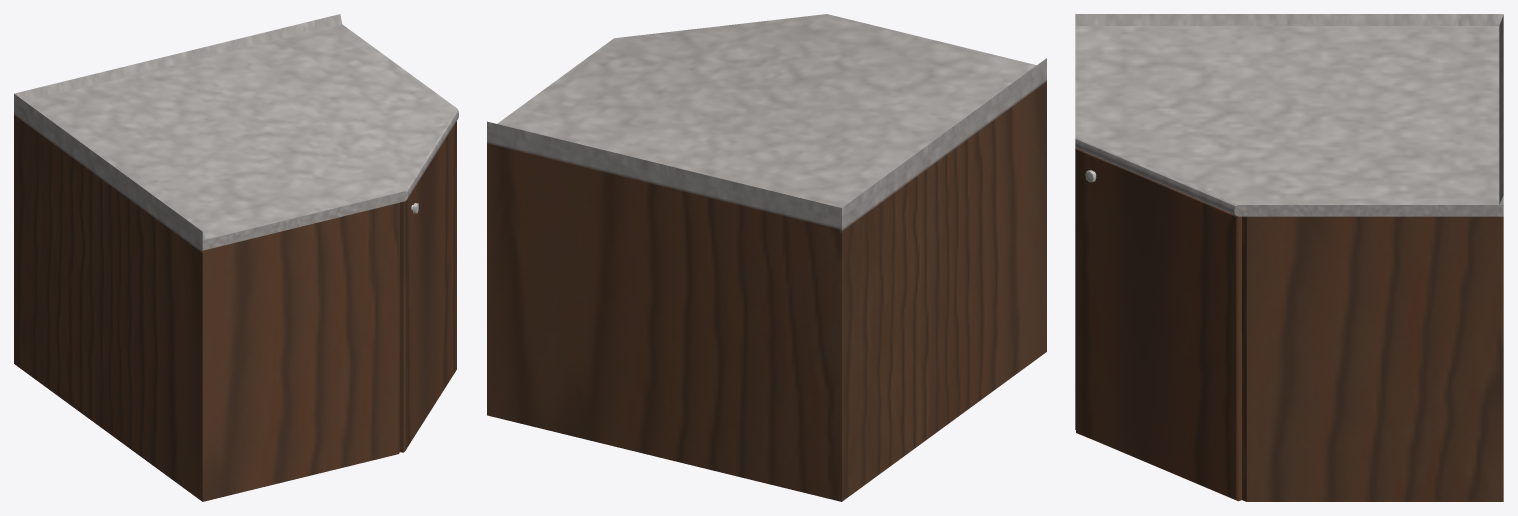
Rendered from Cabinet90Degrees.obj.
The picture shows the model from 3 angles, left to right: view 1: azimuth 30°, elevation 25°; view 2: azimuth 150°, elevation 25°; view 3: azimuth 270°, elevation 25°; orthographic projection. The views are drawn at different scales.
Parts seen in each view (by area): view 1: KitchenCabinet90Degrees; view 2: KitchenCabinet90Degrees; view 3: KitchenCabinet90Degrees.
Boxes of the visible parts, left/top/right/bottom form: KitchenCabinet90Degrees: left=14, top=14, right=458, bottom=501; KitchenCabinet90Degrees: left=487, top=14, right=1046, bottom=501; KitchenCabinet90Degrees: left=1075, top=14, right=1503, bottom=501.
Bounding box in the file's own units: 1.09 × 0.8613 × 1.09.
